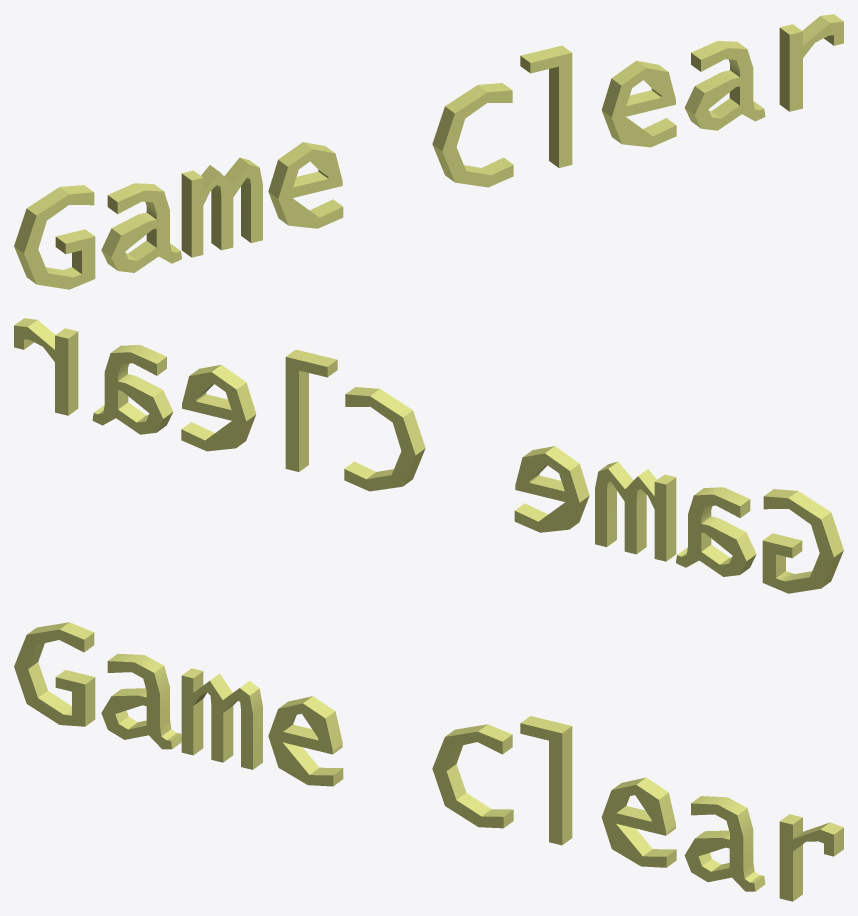
File: clear.fbx
3 renders of one model, top to bottom at view 1: azimuth 30°, elevation 25°; view 2: azimuth 150°, elevation 25°; view 3: azimuth 330°, elevation 25°, orthographic.
Visible parts, largest first — view 1: clear_mdl; view 2: clear_mdl; view 3: clear_mdl.
Boxes of the visible parts, x1,y1,x2,y2 form: clear_mdl: (14,14,843,289); clear_mdl: (14,318,843,593); clear_mdl: (14,622,843,901).
Size of the model in its own units: 345 by 45.98 by 7.31.
